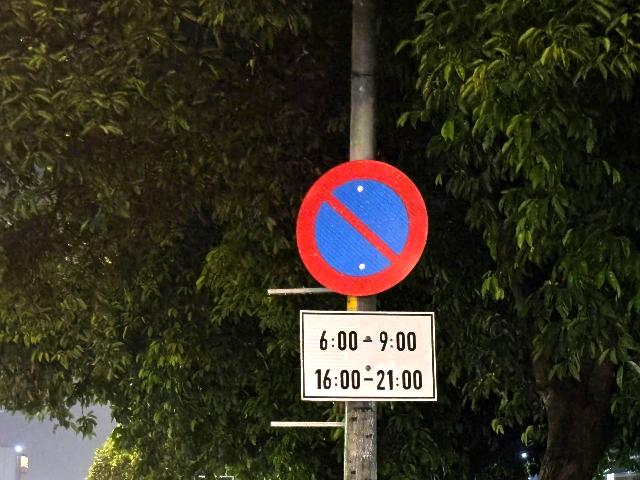cam-do-xe: (296, 159, 429, 297)
